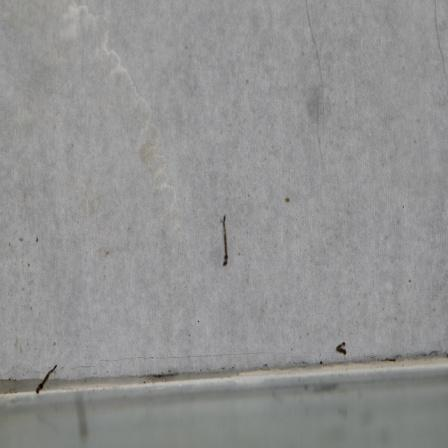Jentik-Nyamuk: (214, 209, 237, 271), (29, 361, 63, 395), (332, 334, 353, 361)
